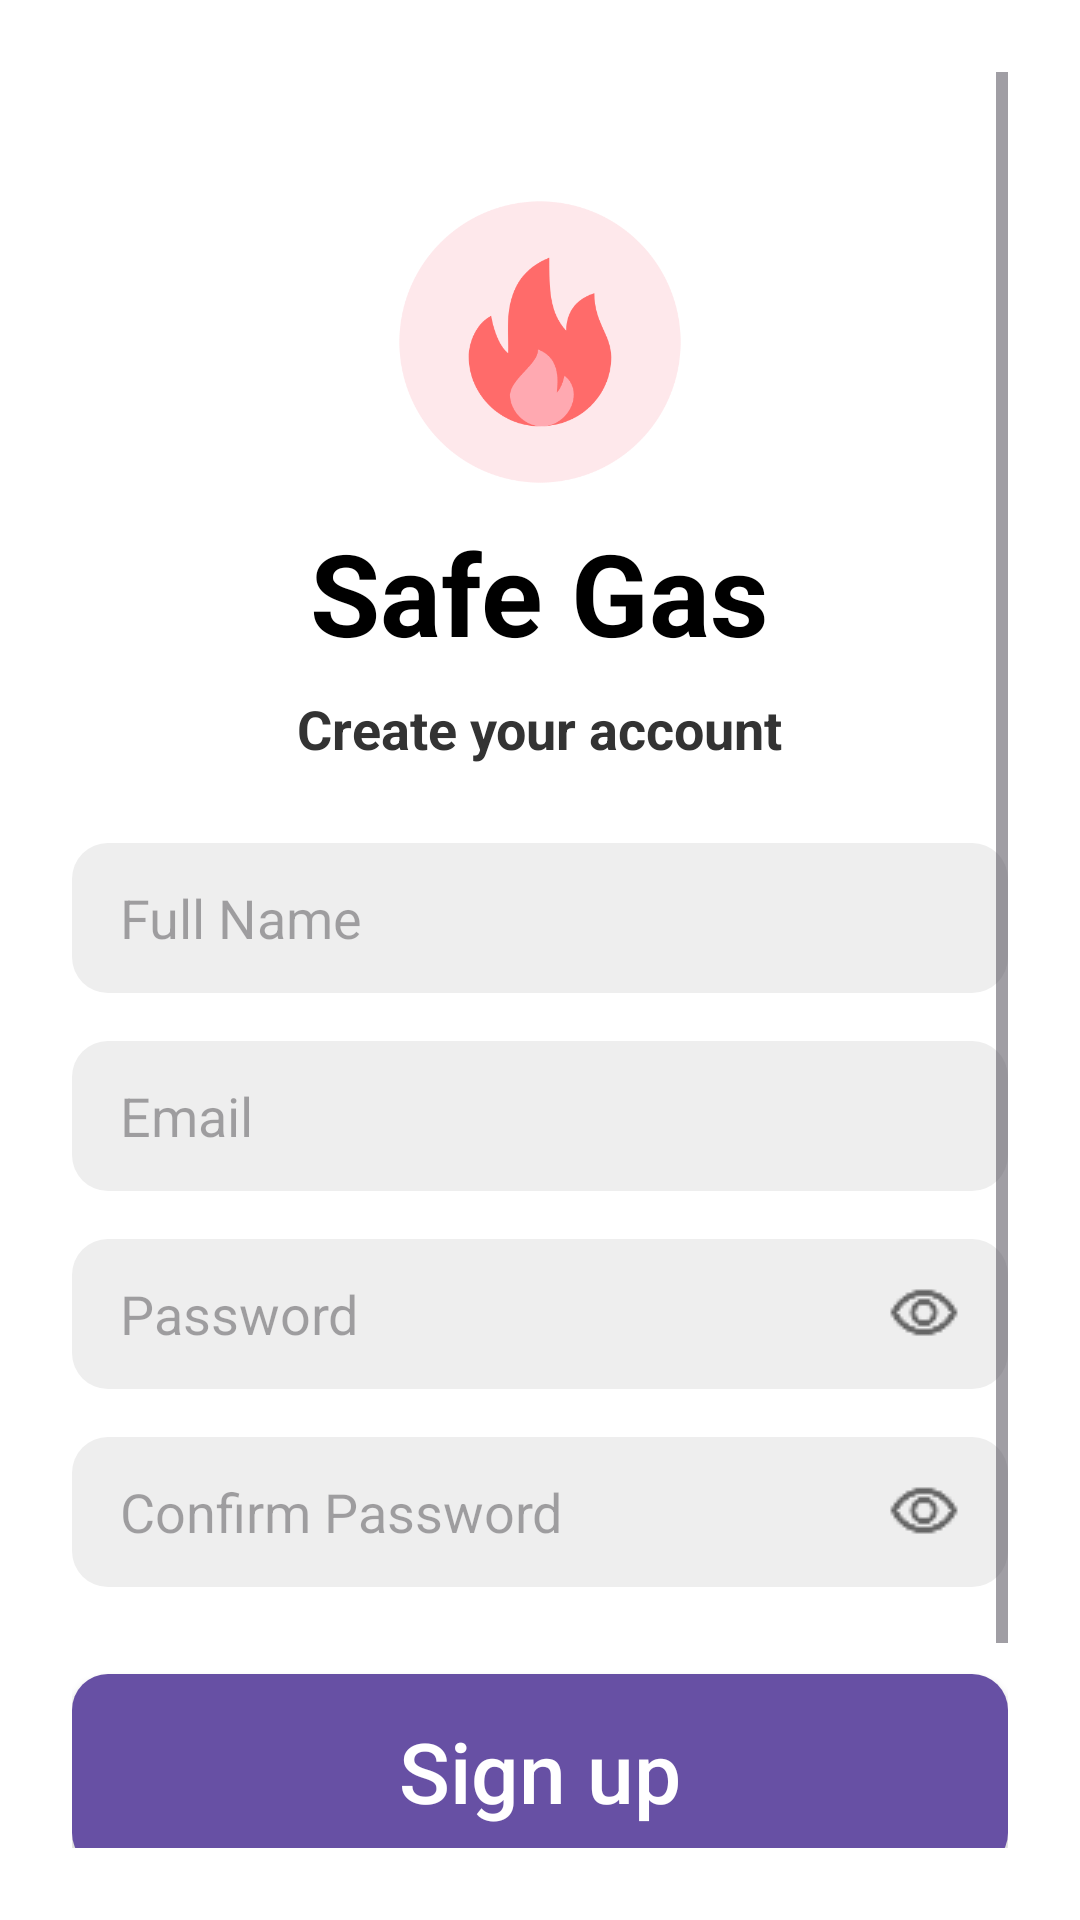

Icons on this 1080*1920 Android screen, each with the point to tap as [x,y]:
eye on: [924,1312], [924,1510]
